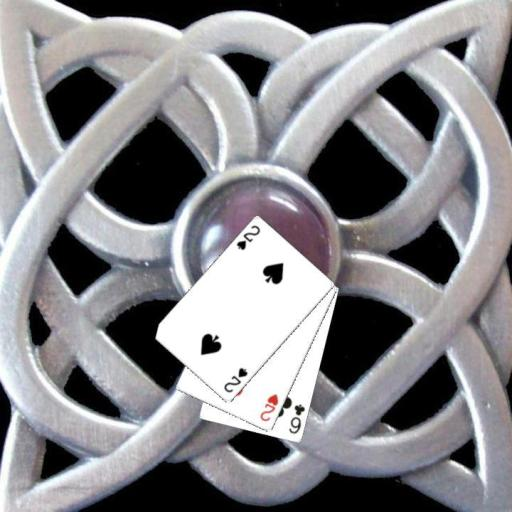2H: (257, 391, 280, 423)
2S: (220, 365, 249, 395), (233, 222, 262, 252)
6C: (286, 401, 306, 435)
